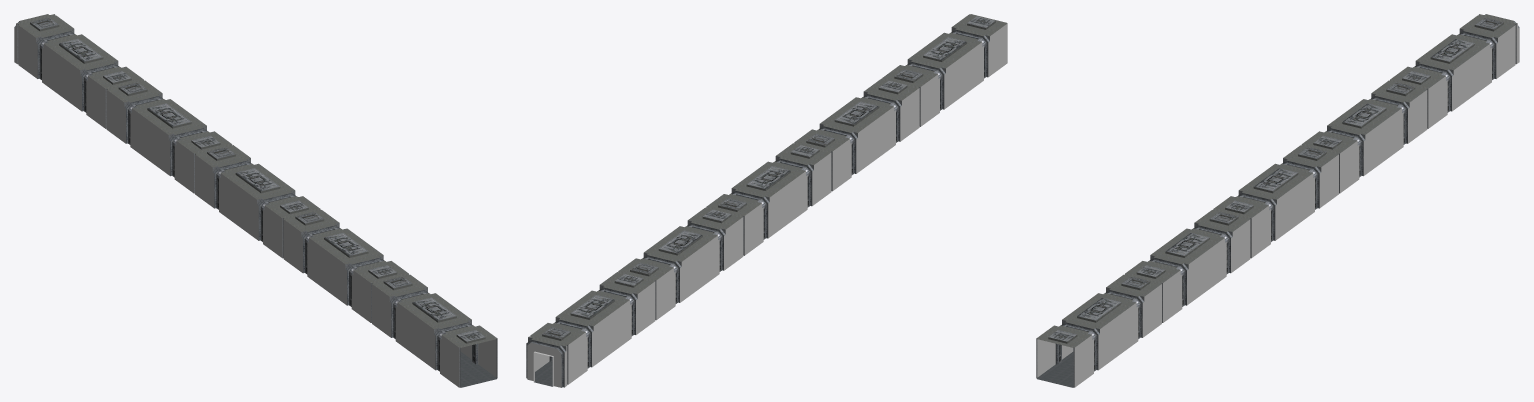
The model's file is poi_all_impl_bunker_research_facility_s01_r18_longhall_mesh.fbx.
The picture shows the model from 3 angles, left to right: view 1: azimuth 30°, elevation 25°; view 2: azimuth 150°, elevation 25°; view 3: azimuth 330°, elevation 25°; orthographic projection.
Visible parts, largest first — view 1: mesh_node; view 2: mesh_node; view 3: mesh_node.
Boxes of the visible parts, box(x1,y1,x2,y2) form: mesh_node: box(14, 14, 497, 387); mesh_node: box(526, 14, 1007, 387); mesh_node: box(1036, 14, 1519, 387).
Bounding box in the file's own units: 4 × 4.2 × 81.
